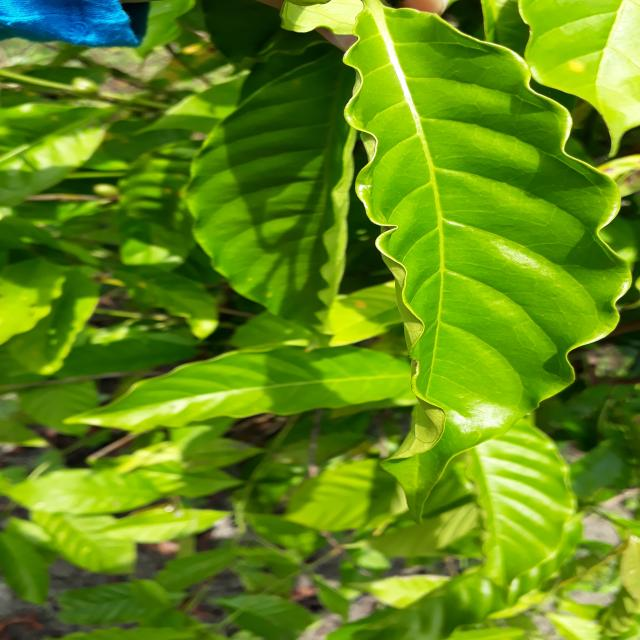Sanas: (280, 0, 636, 424)
